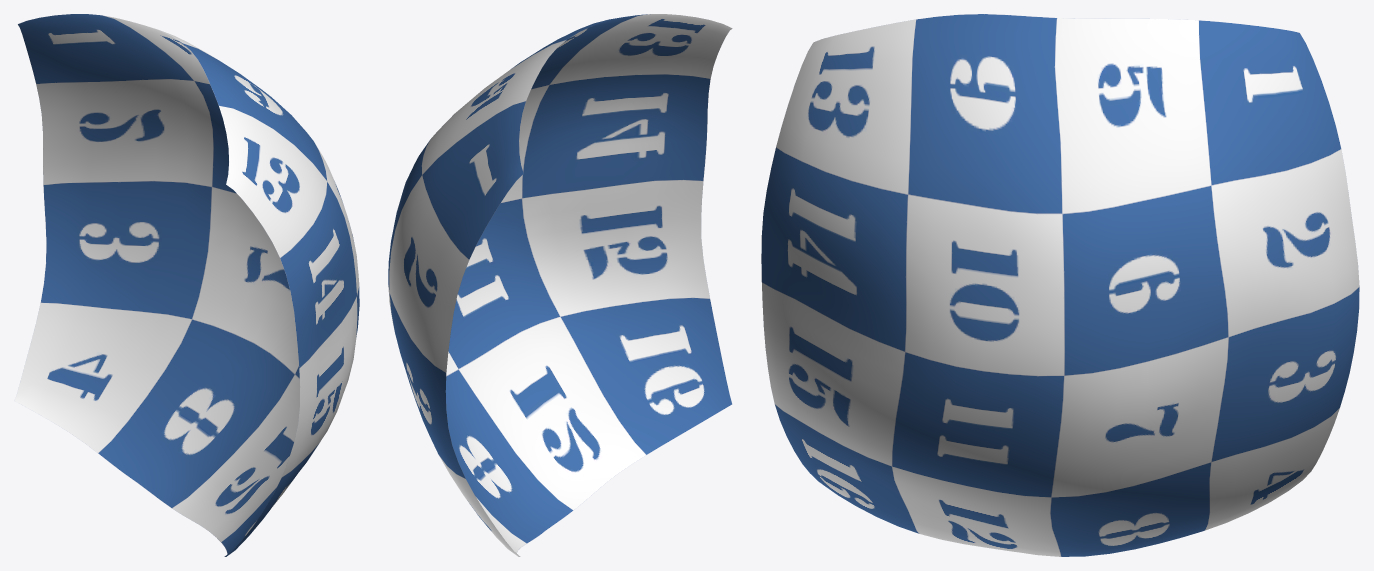
The model's file is Rui_Web4.fbx.
3 views of the same model, side by side, from view 1: azimuth 30°, elevation 25°; view 2: azimuth 150°, elevation 25°; view 3: azimuth 270°, elevation 25° (orthographic). The views are drawn at different scales.
Visible parts, largest first — view 1: SM_e_Plc_P1007_Web004; view 2: SM_e_Plc_P1007_Web004; view 3: SM_e_Plc_P1007_Web004.
Boxes of the visible parts, x1,y1,x2,y2 form: SM_e_Plc_P1007_Web004: (14, 14, 359, 556); SM_e_Plc_P1007_Web004: (388, 14, 732, 556); SM_e_Plc_P1007_Web004: (761, 14, 1359, 556).
Size of the model in its own units: 50.3 by 106 by 106.
1 material, 1 textured.
